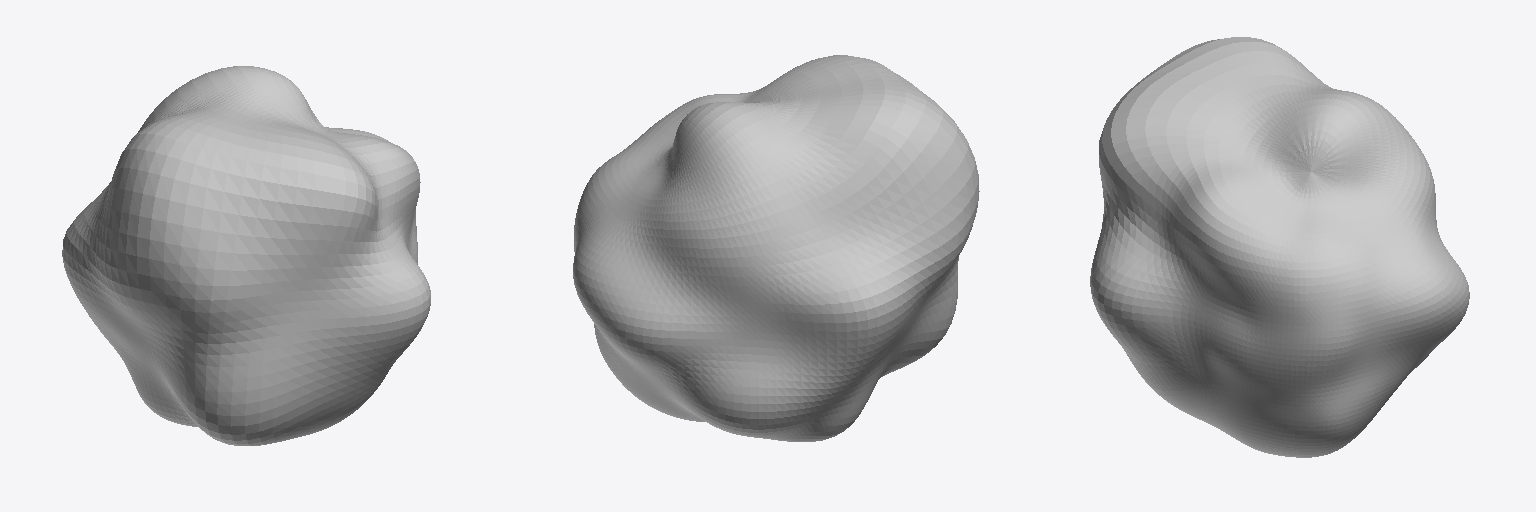
The model's file is Blob.obj.
The picture shows the model from 3 angles: view 1: azimuth 30°, elevation 25°; view 2: azimuth 150°, elevation 25°; view 3: azimuth 270°, elevation 25°; orthographic projection.
Parts seen in each view (by area): view 1: Sphere; view 2: Sphere; view 3: Sphere.
Part boxes in pixels (x1,y1,x2,y2): Sphere: (62,66,430,445); Sphere: (573,55,979,441); Sphere: (1090,37,1469,457).
Bounding box in the file's own units: 8.95 × 8.51 × 8.77.